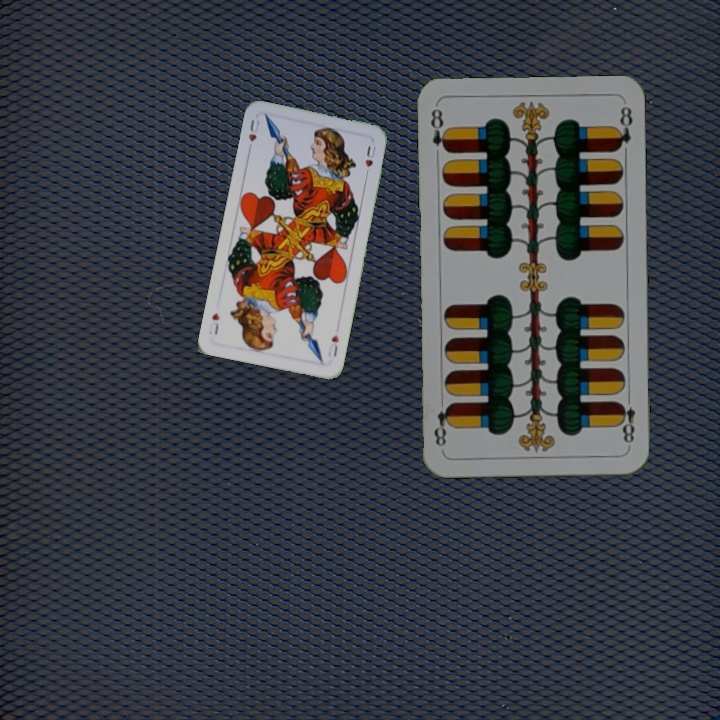E8: (614, 390, 638, 449), (426, 104, 452, 155)
HU: (244, 115, 262, 155), (324, 331, 341, 360)
